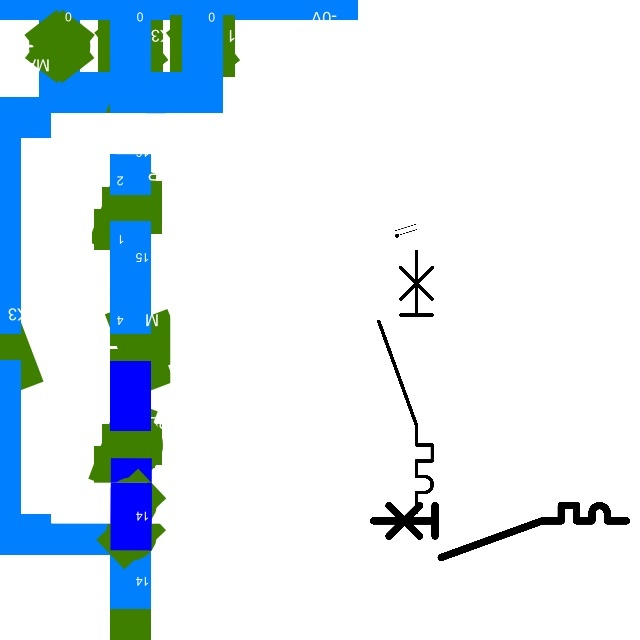interruptor_termomagnetico: (372, 244, 439, 518), (367, 499, 633, 564)
